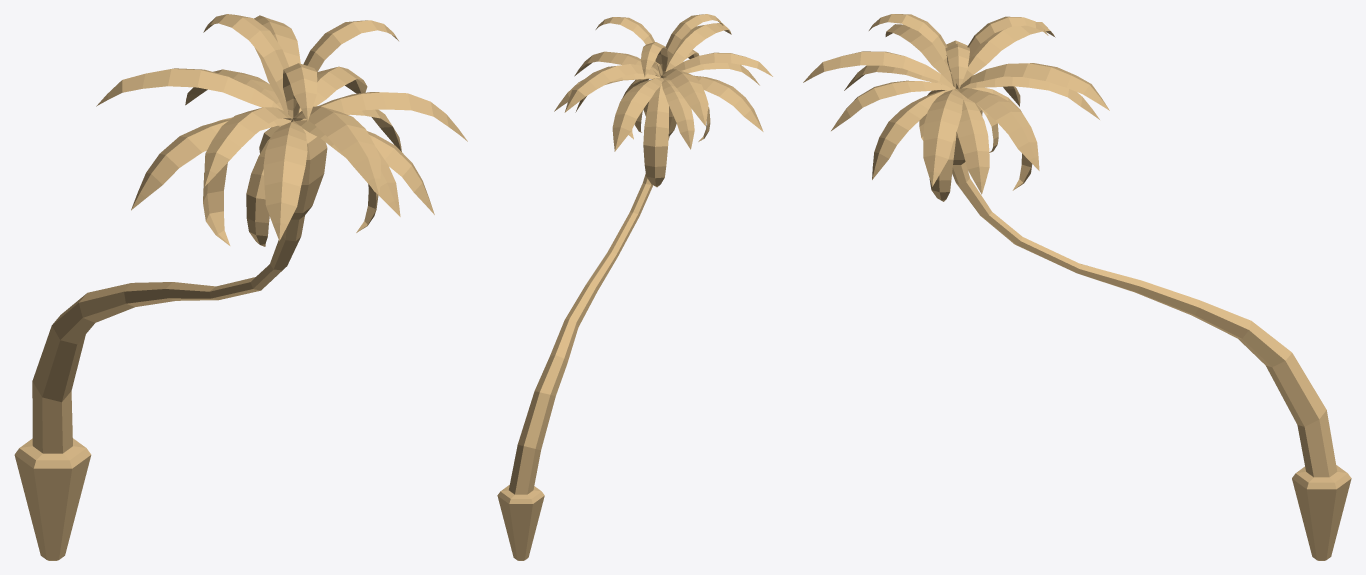
Rendered from Mega_Asset_s_Pack_Cylinder_007.FBX.
3 views of the same model, side by side, from view 1: azimuth 30°, elevation 25°; view 2: azimuth 150°, elevation 25°; view 3: azimuth 270°, elevation 25° (orthographic). The views are drawn at different scales.
Visible parts, largest first — view 1: Mega_Asset_s_Pack_Cylinder_007; view 2: Mega_Asset_s_Pack_Cylinder_007; view 3: Mega_Asset_s_Pack_Cylinder_007.
Boxes of the visible parts, x1,y1,x2,y2 form: Mega_Asset_s_Pack_Cylinder_007: (14,14,467,560); Mega_Asset_s_Pack_Cylinder_007: (497,14,772,560); Mega_Asset_s_Pack_Cylinder_007: (803,14,1351,560).
Size of what is drawn, in the model's own units: 418 by 793 by 856.
